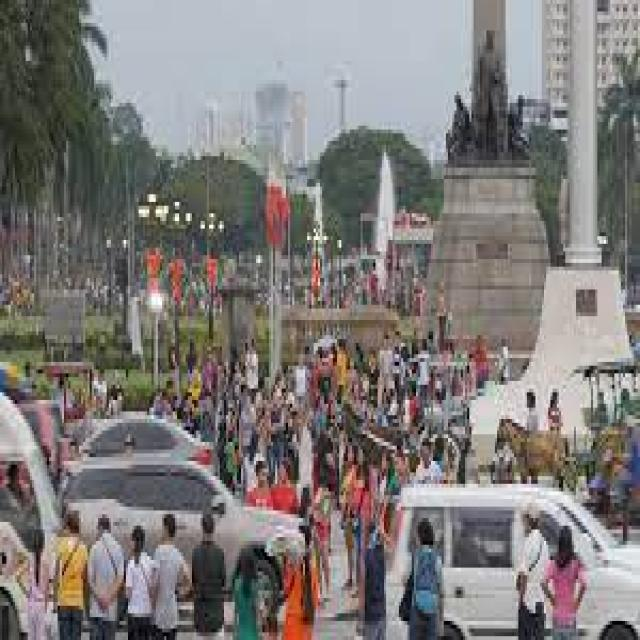Pedestrians: (516, 503, 550, 640), (192, 518, 226, 640), (412, 518, 446, 636), (90, 514, 122, 636), (550, 522, 584, 636), (360, 518, 390, 640), (284, 537, 320, 636), (58, 510, 85, 640), (156, 514, 183, 636), (232, 548, 264, 640), (25, 529, 51, 640), (126, 526, 151, 636)
Sport-Utility-Vehicle: (53, 457, 304, 611)
